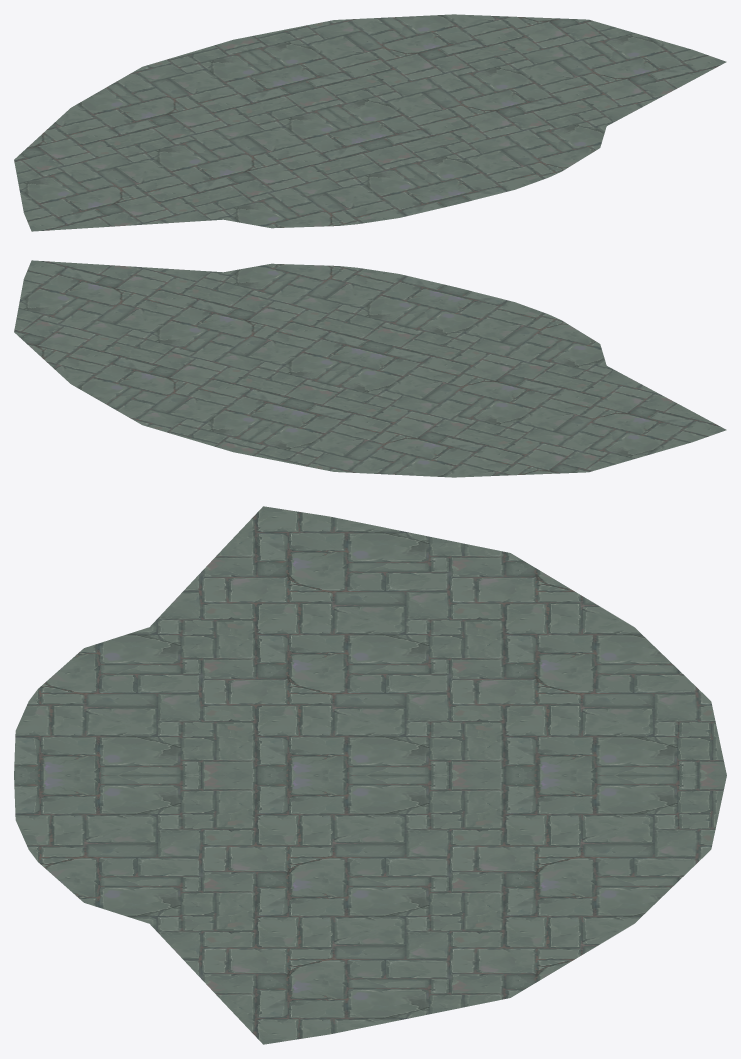
File: fb_plxd_zj_12_c.FBX
3 views of the same model, one above another, from view 1: azimuth 30°, elevation 25°; view 2: azimuth 150°, elevation 25°; view 3: azimuth 270°, elevation 25° (orthographic). The views are drawn at different scales.
Visible parts, largest first — view 1: fb_plxd_zj_12_c; view 2: fb_plxd_zj_12_c; view 3: fb_plxd_zj_12_c.
Boxes of the visible parts, x1,y1,x2,y2 form: fb_plxd_zj_12_c: [14, 14, 726, 231]; fb_plxd_zj_12_c: [14, 260, 726, 477]; fb_plxd_zj_12_c: [14, 506, 726, 1044].
Bounding box in the file's own units: 2006 × 0.000226 × 1123.
